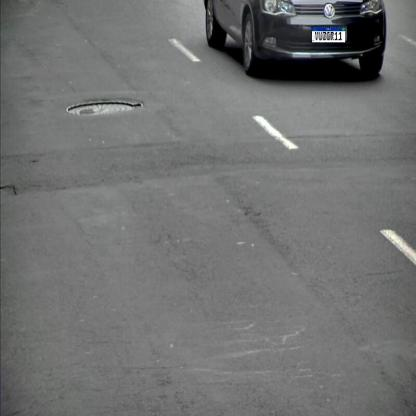PlacaM: (311, 26, 346, 43)
